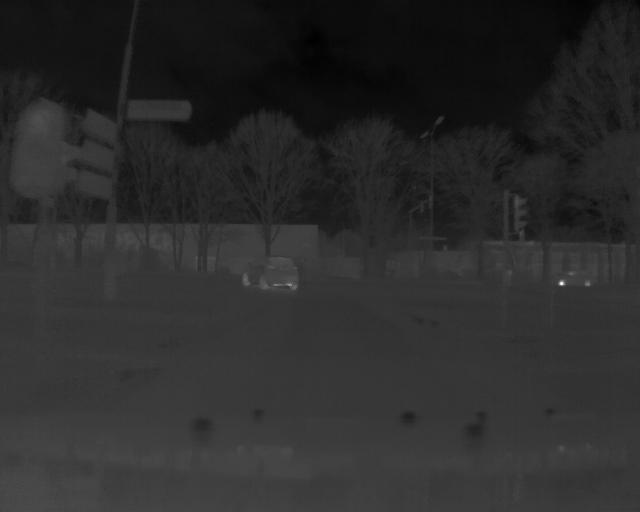car: (241, 256, 299, 292)
